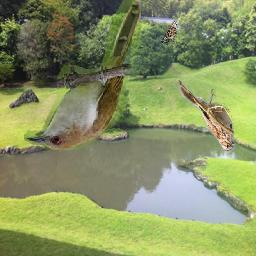Cuckoo: (25, 0, 142, 150)
Sparrow: (179, 85, 235, 152), (161, 21, 177, 44)
